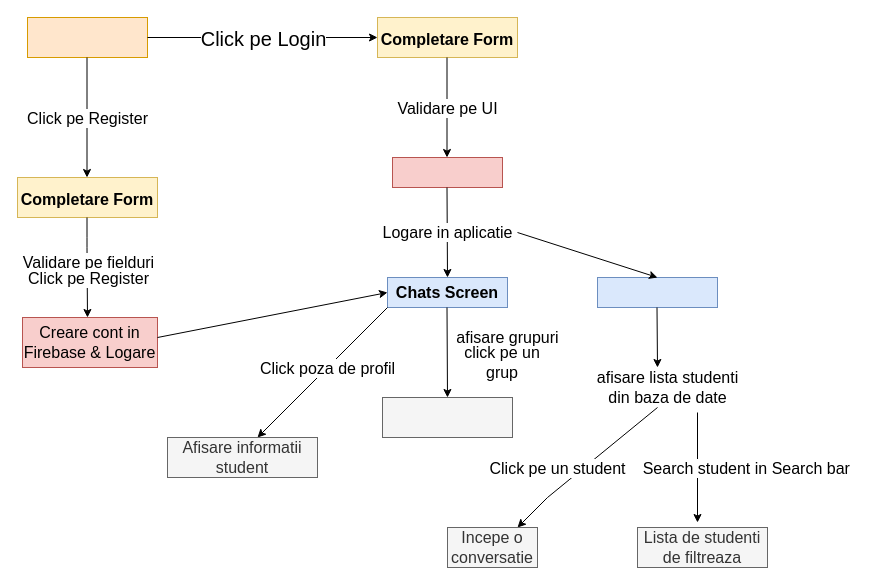
Image size: 871x585. Some labels were removed from this diagram. Here are the shapes that lost their labels. From the top down, the box of each, then its label:
(26, 16, 148, 58): User
(392, 156, 502, 188): Firebase
(596, 276, 718, 308): People Screen
(382, 396, 512, 438): Afisare conversatie
